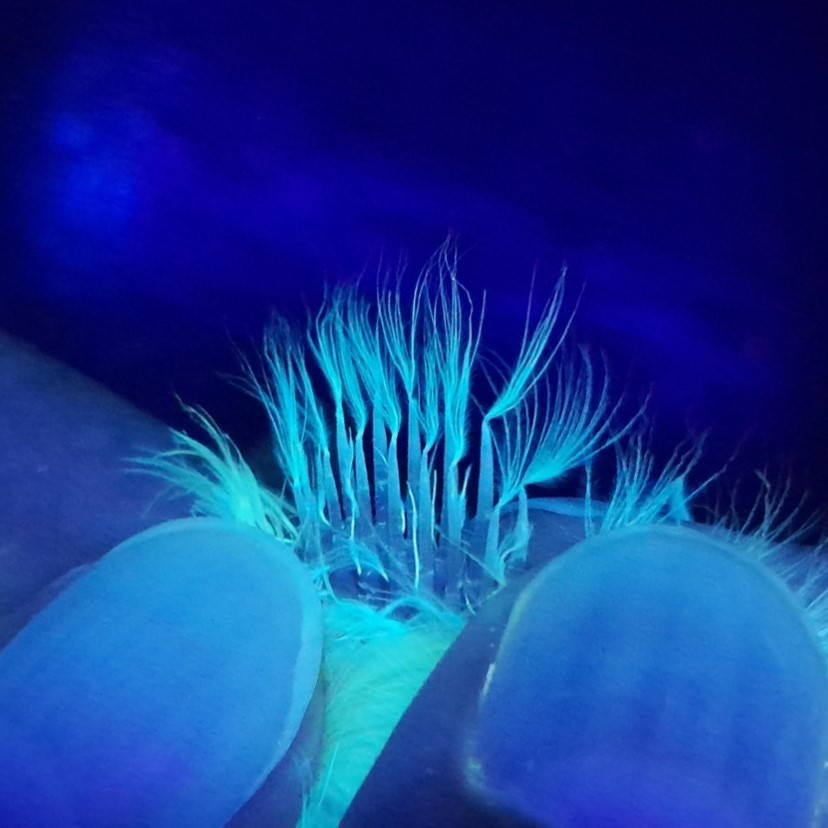female: (278, 396, 526, 646)
